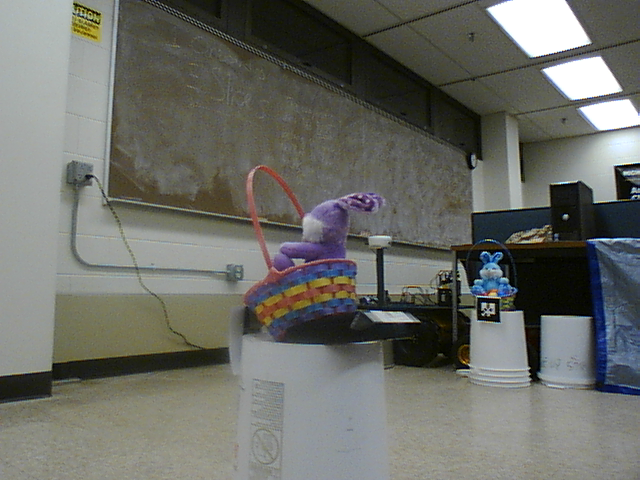bunny: (239, 162, 383, 320)
